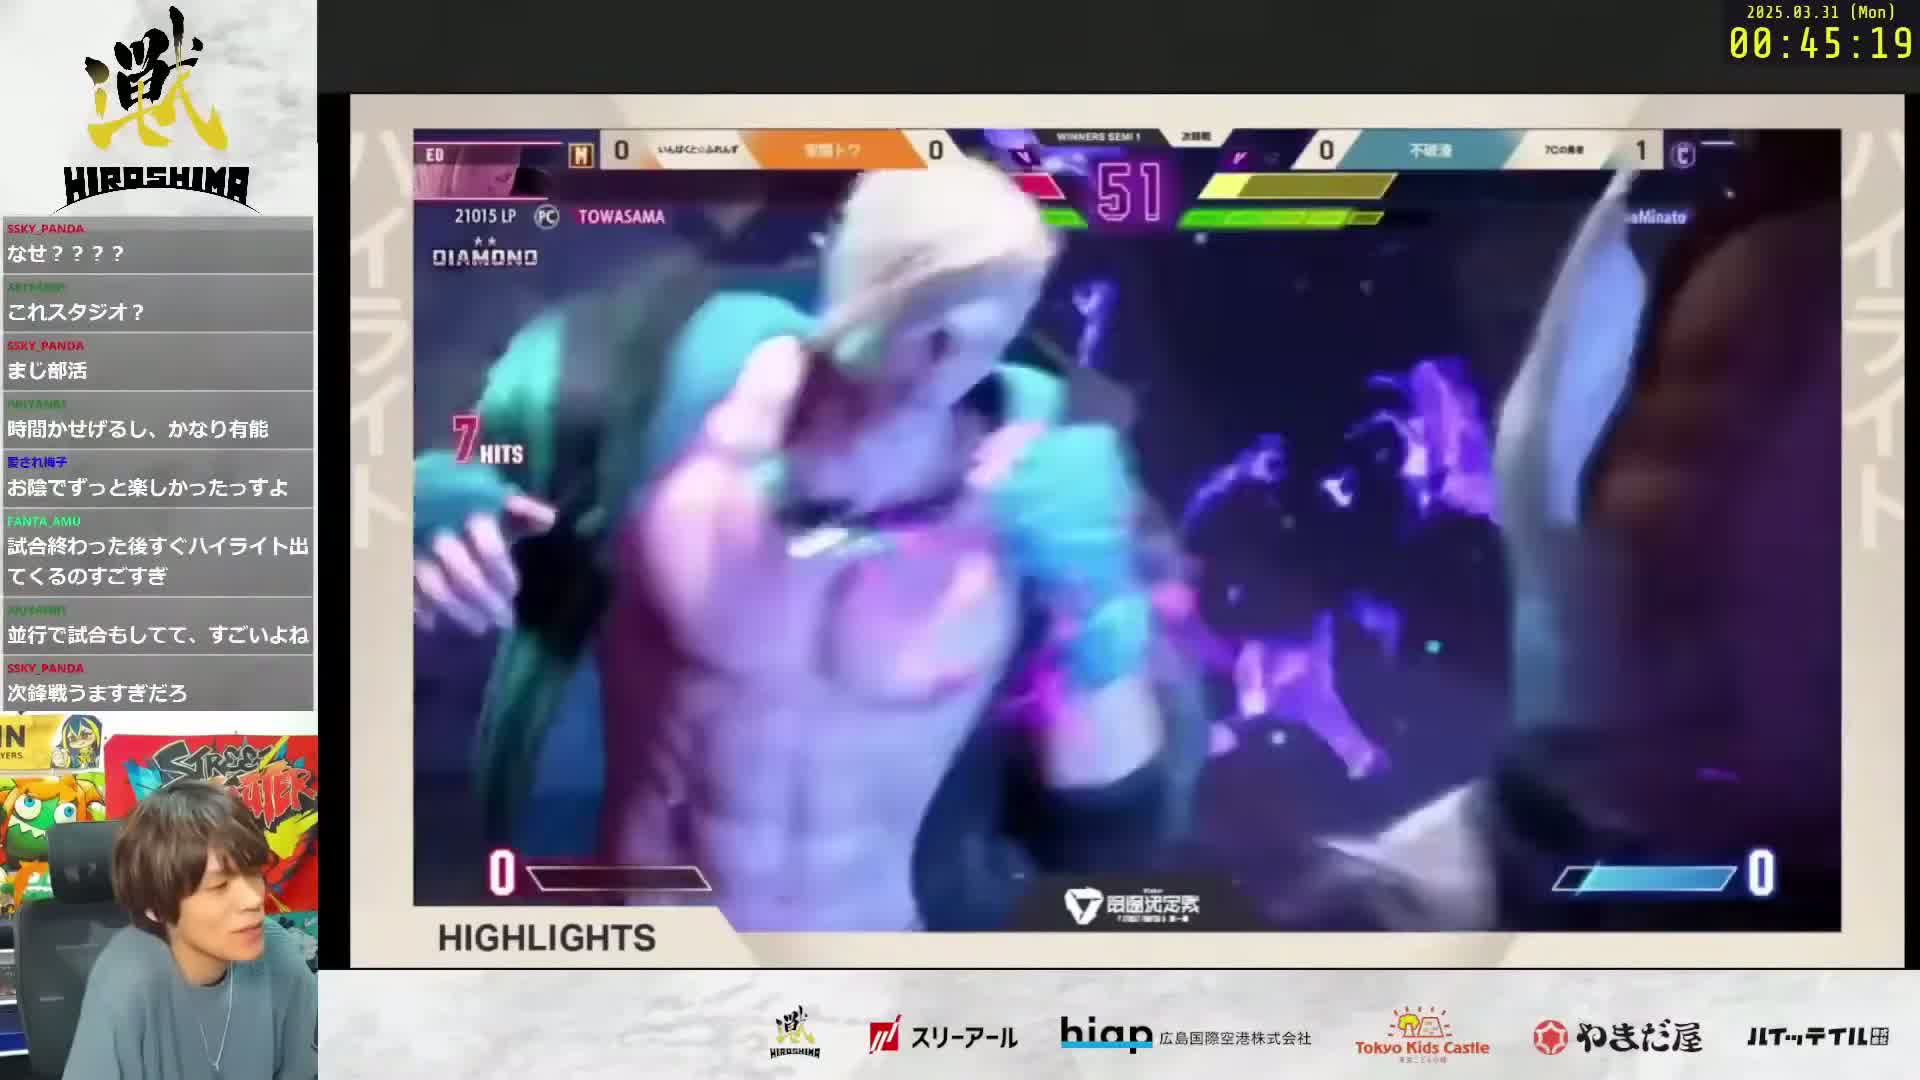stream_tag: (1, 735, 318, 1080)
